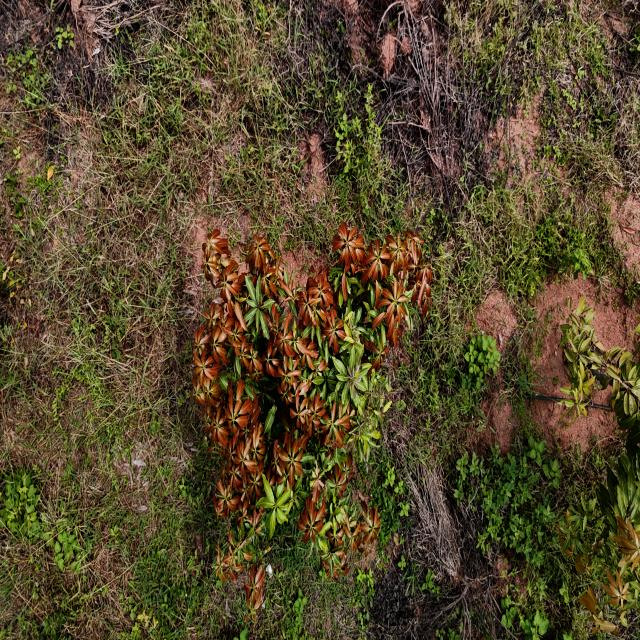mangoTree: (189, 213, 434, 625), (556, 293, 640, 640)
